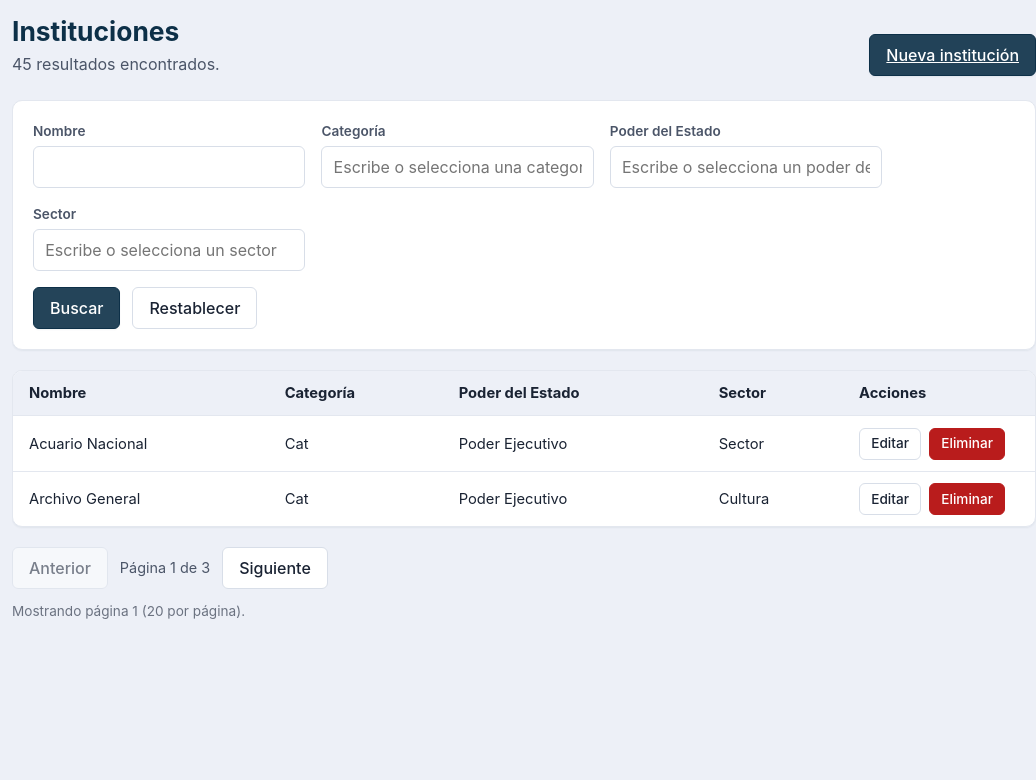
Scenario: InstitutionsPage › navigates to the next page when Next is clicked
The width and height of the screenshot is (1036, 780).
Check: the text "Acuario Nacional" is shown, box x1=13 y1=416 x2=269 y2=472
Click the button "Siguiente" at (275, 568), box x1=222 y1=547 x2=328 y2=589
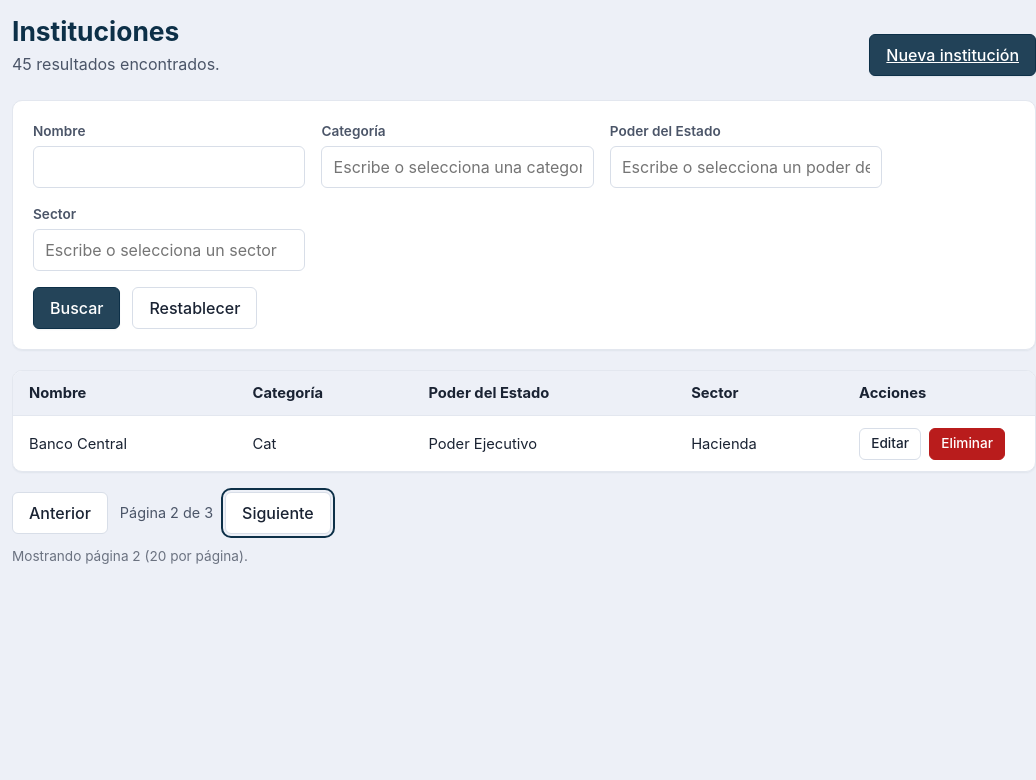
Check: the text "Banco Central" is shown, box x1=13 y1=416 x2=237 y2=471
Check: the text "Página 2 de 3" is shown, box x1=120 y1=502 x2=213 y2=524
